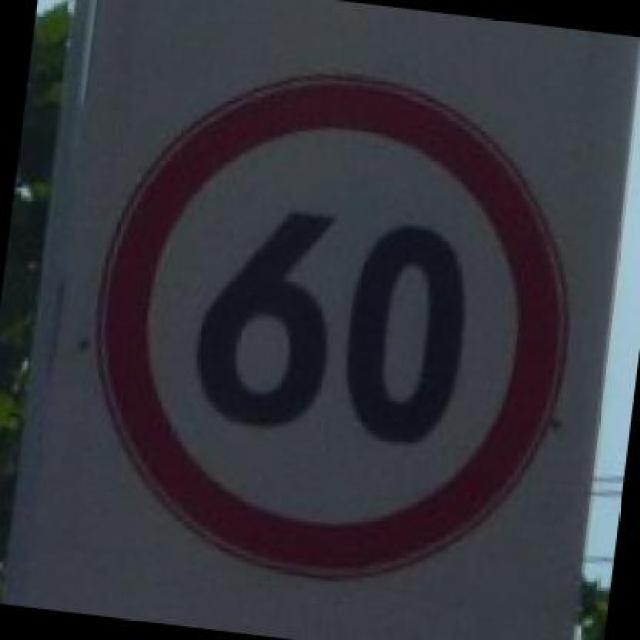Limite-60: (91, 68, 580, 590)
